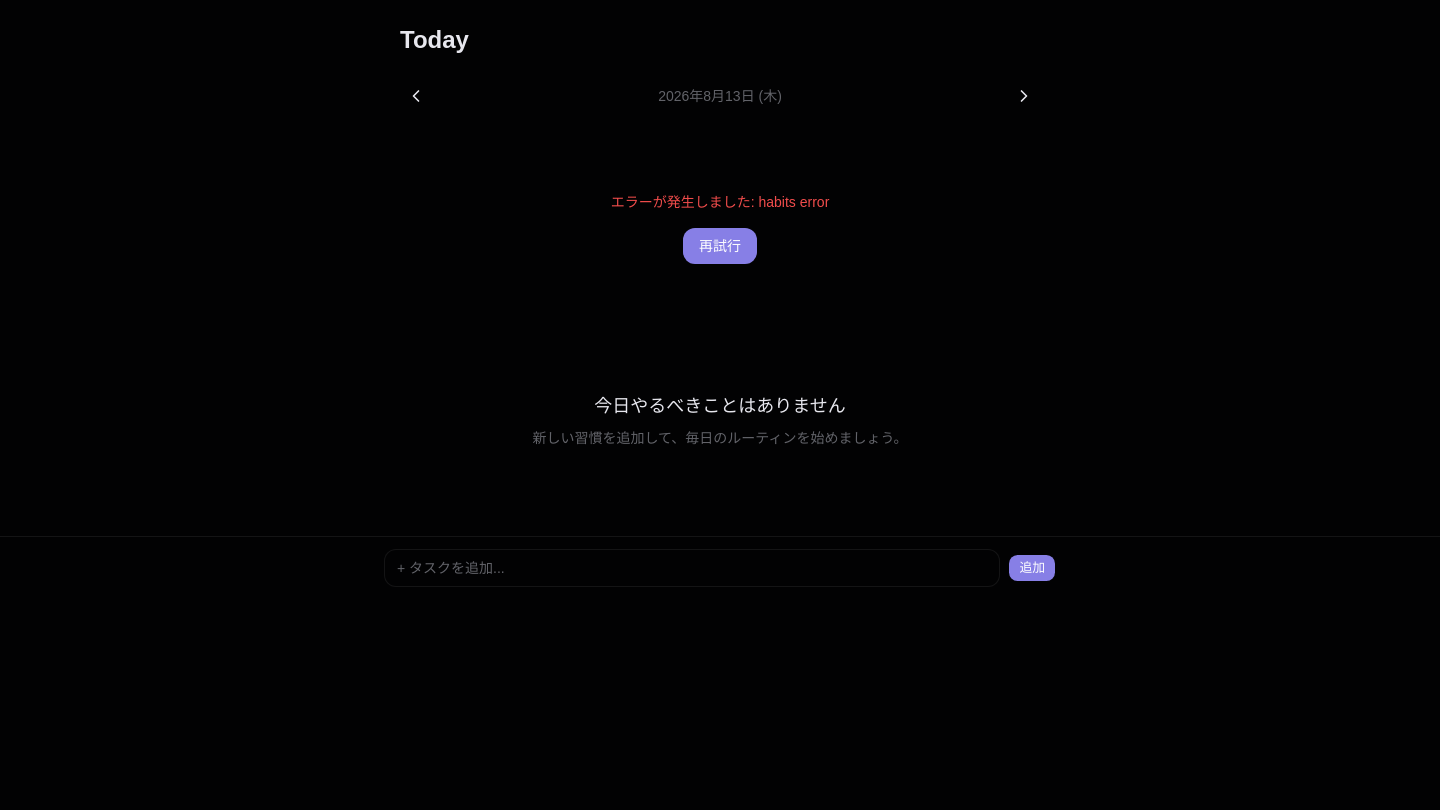
Test: TodayPage › handleRetry clears completionsError and reloads completions
Click the button "再試行" at (720, 246), box x1=683 y1=228 x2=757 y2=264
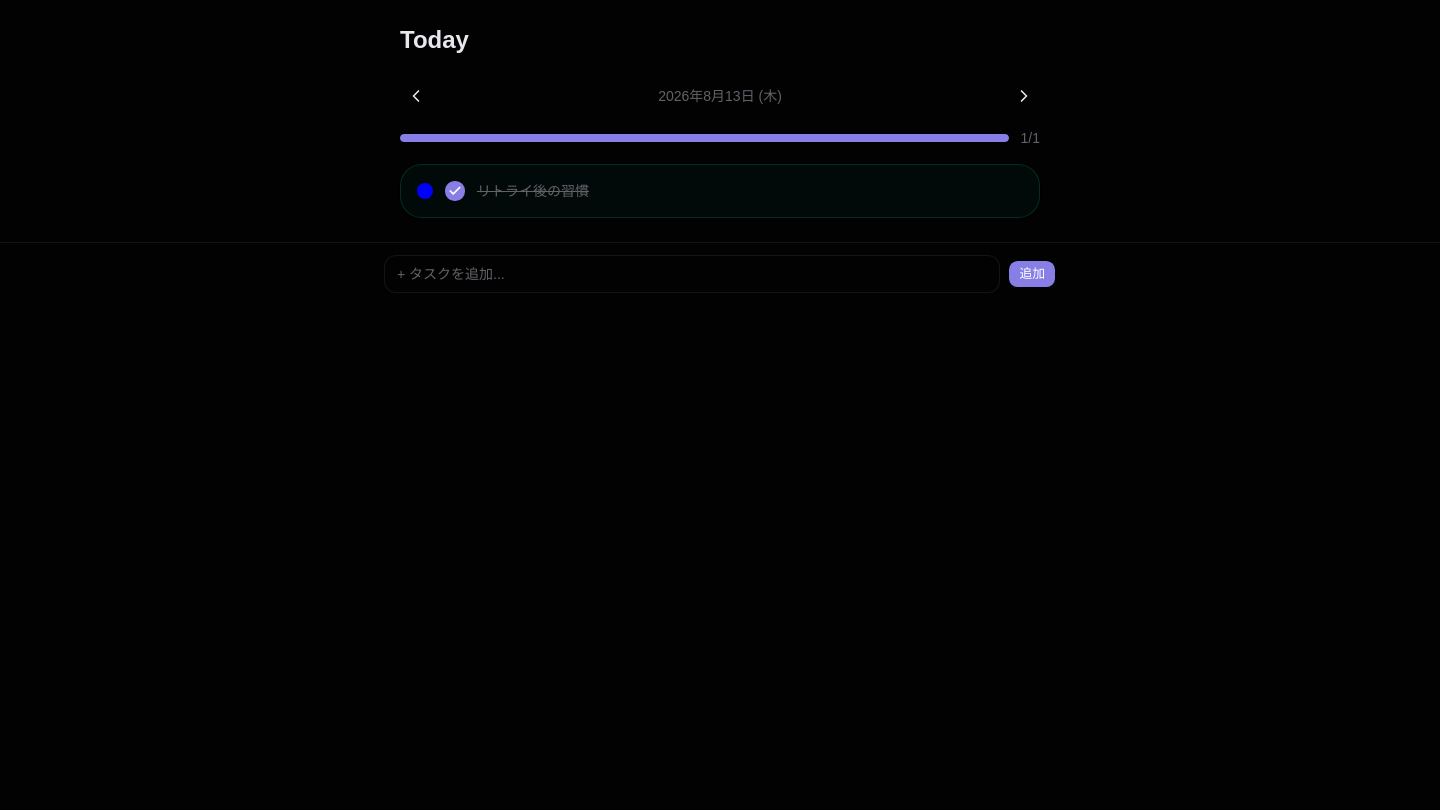
expect the text "リトライ後の習慣" is shown: met, box x1=477 y1=183 x2=589 y2=199
